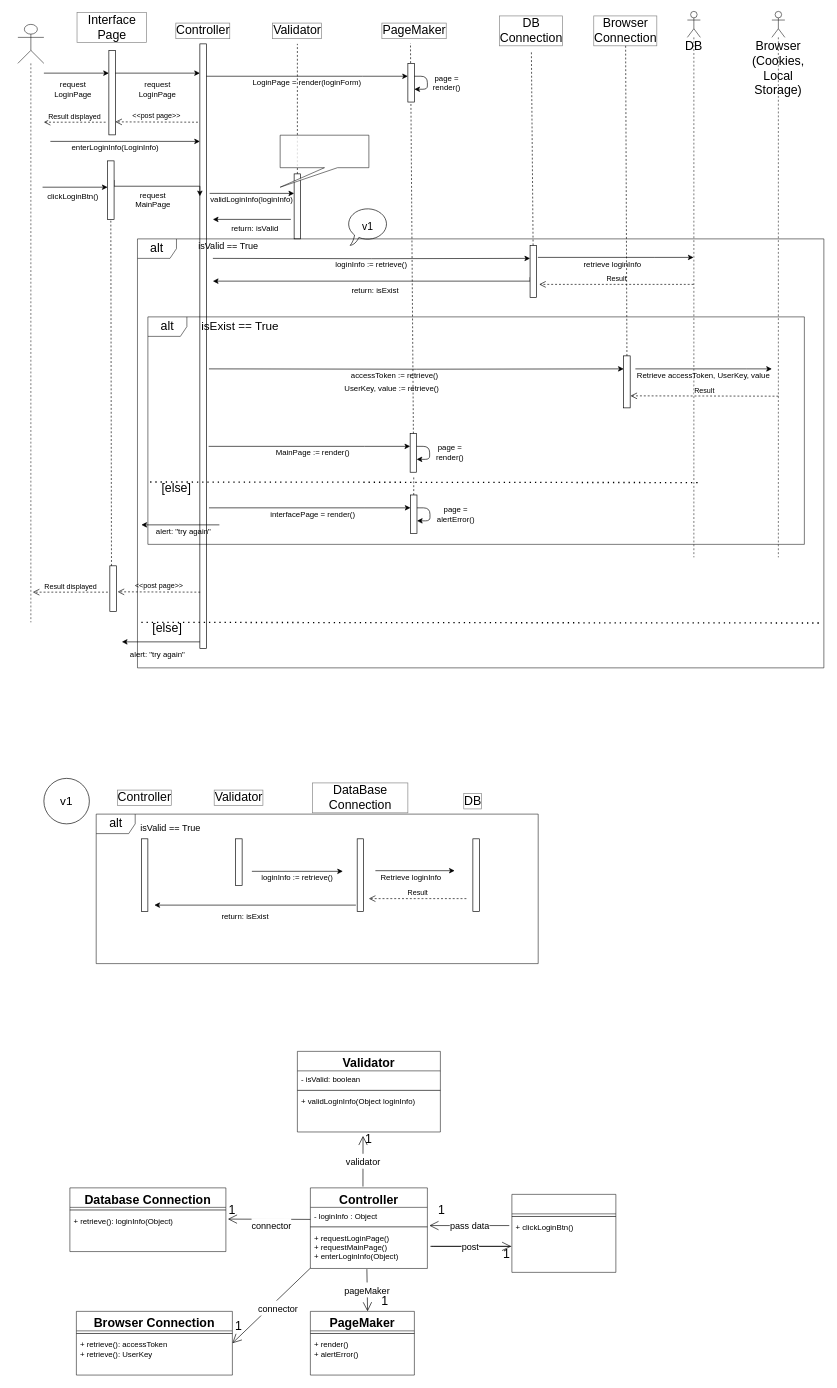
Image size: 837x1388. Some labels were removed from this diagram. Here are the shapes that lost their labels. From the top down, the box of each, then its label:
(280, 135, 369, 187): Login시 아이디, 비밀번호의 문자, 숫자, 특수문자 범위 검증하는 메서드
(17, 24, 44, 622): USER, ADMIN
(511, 1194, 616, 1272): InterfacePage
